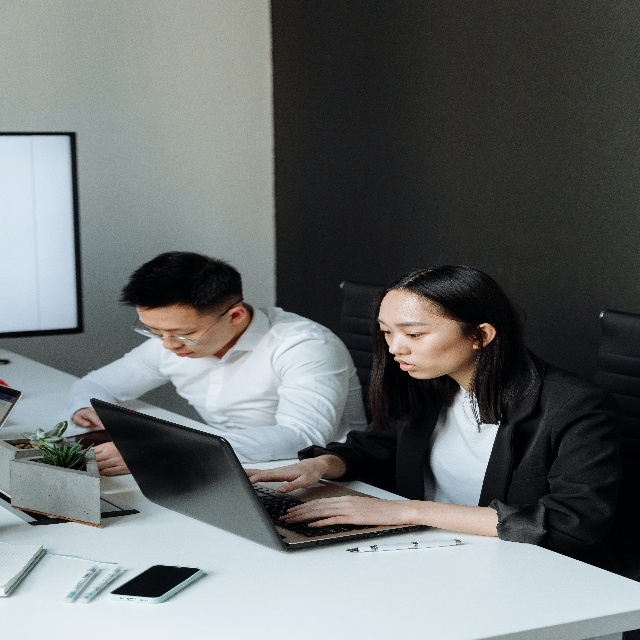Gafas: (131, 297, 244, 346)
Sin_guantes: (279, 495, 407, 528), (243, 455, 323, 494), (90, 440, 130, 477), (73, 407, 106, 431)
